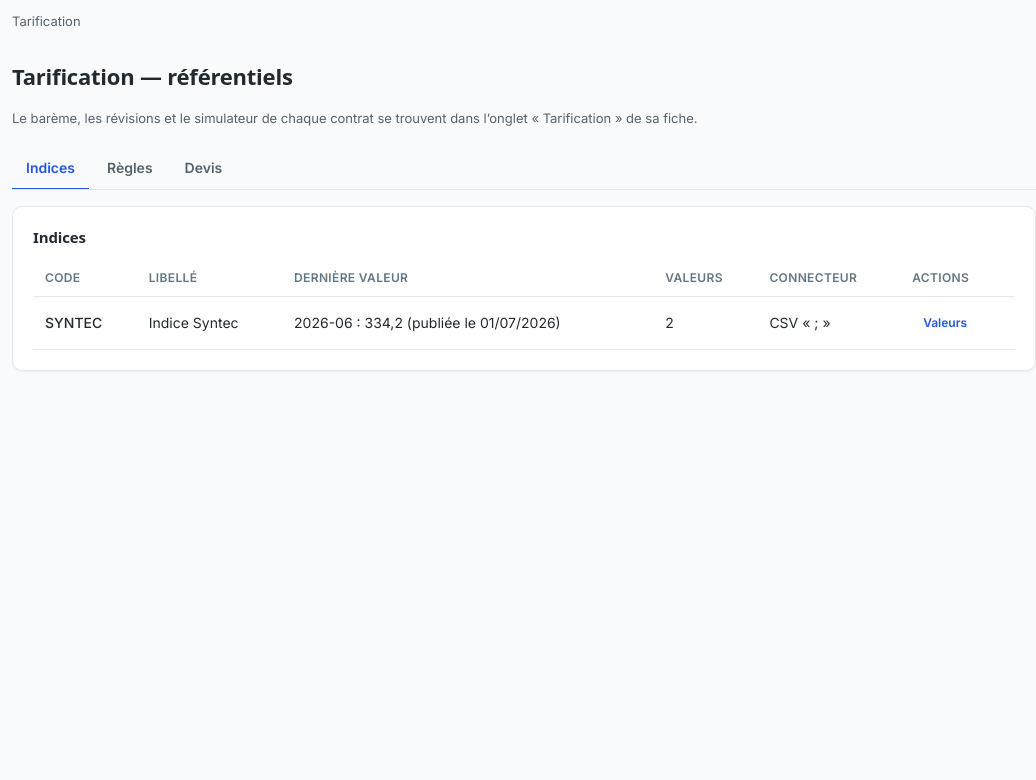
Test: devis : article, quantité, client → prix et totaux ; ambiguïté expliquée
Expected: the tab "Indices" is shown, [12, 148, 89, 190]
Click the tab "Devis" at coordinates (203, 169), box [171, 148, 236, 190]
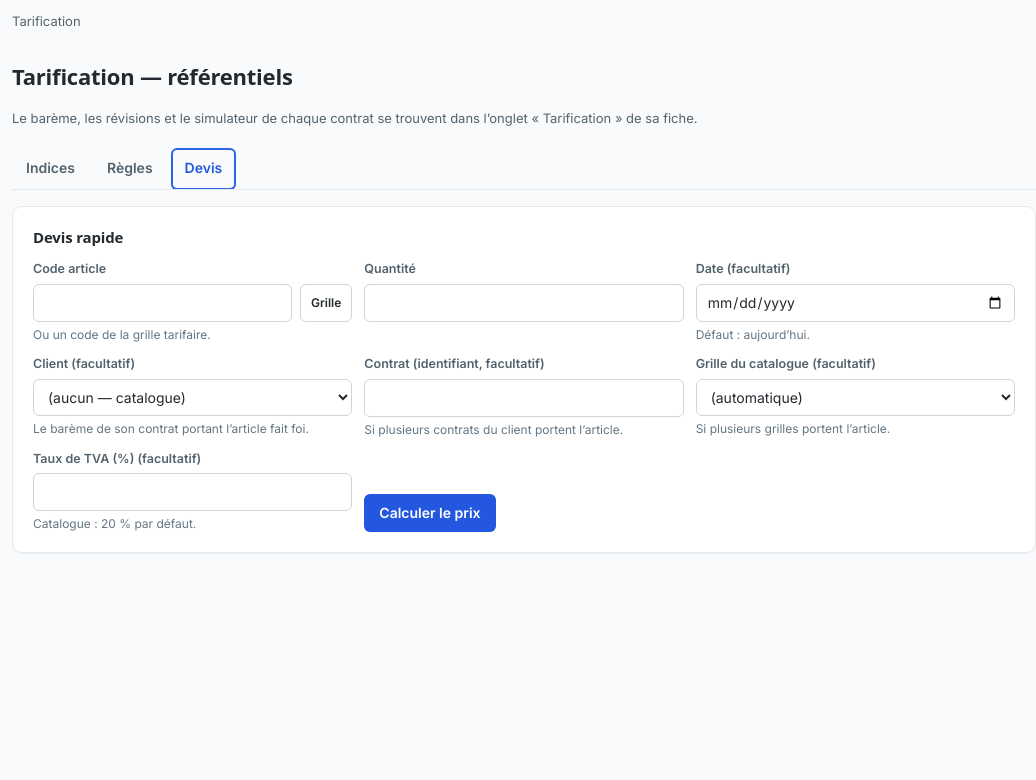
Type "POSTE" into the field labelled "Code article" at coordinates (162, 303), box [33, 284, 292, 322]
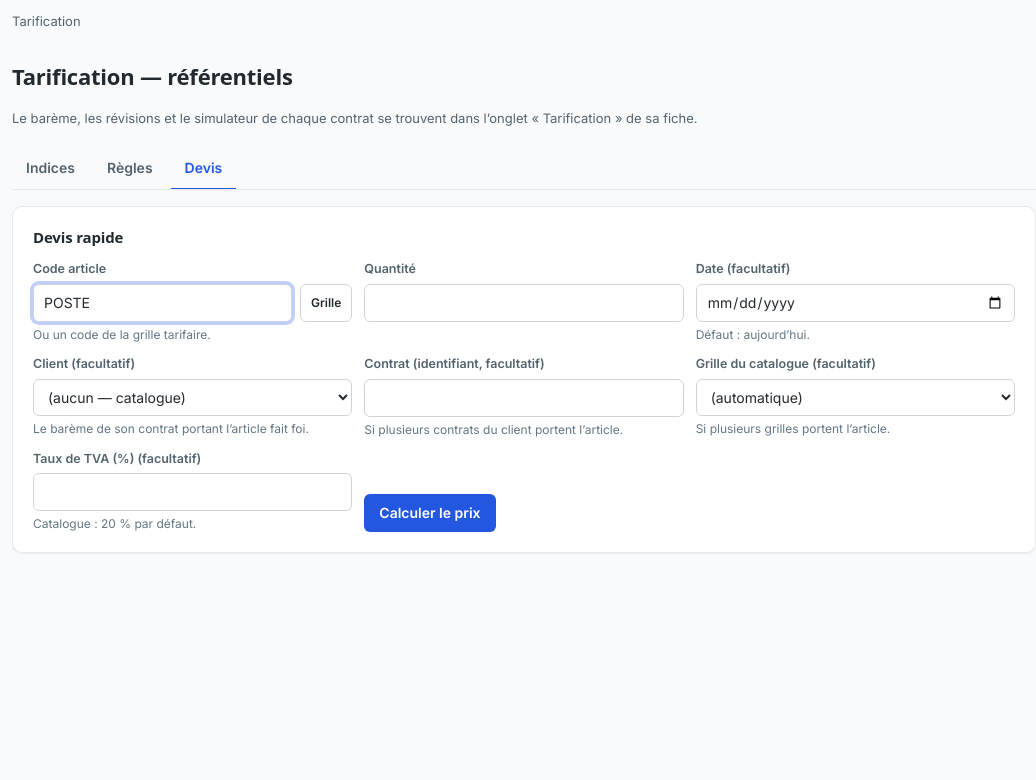
Type "25" into the field labelled "Quantité" at coordinates (524, 303), box [364, 284, 684, 322]
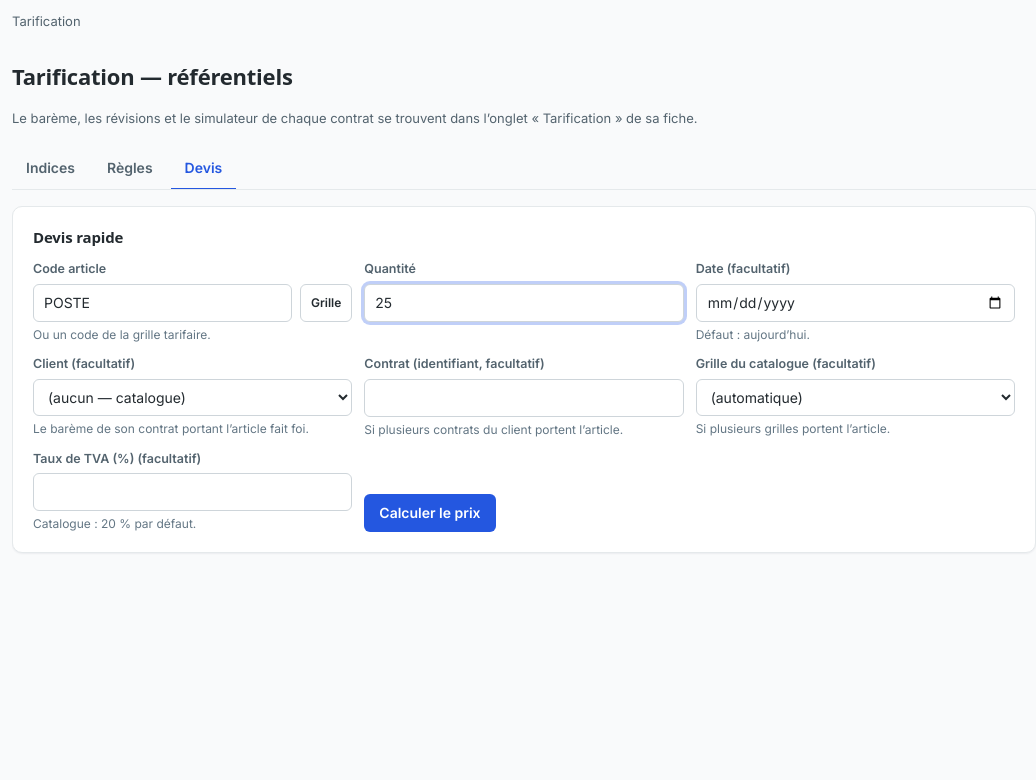
Select "Dupont SAS" in the dropdown labelled "Client (facultatif)" at coordinates (193, 397), box [33, 378, 352, 416]
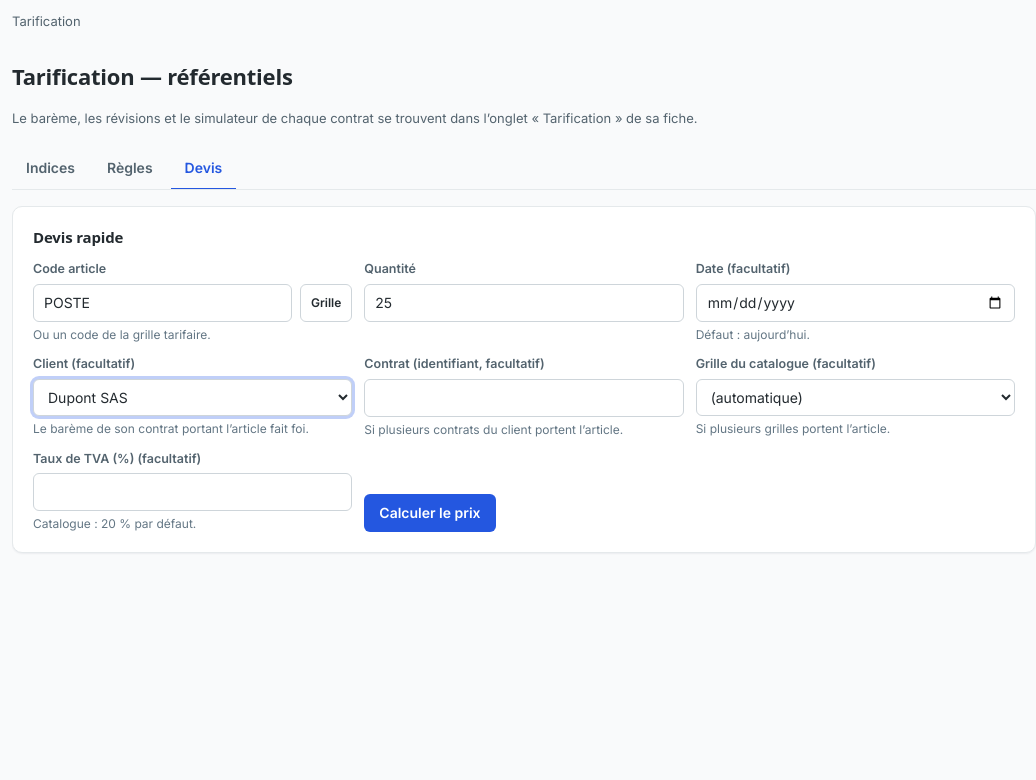
Click the button "Calculer le prix" at coordinates (430, 513), box [364, 494, 496, 532]
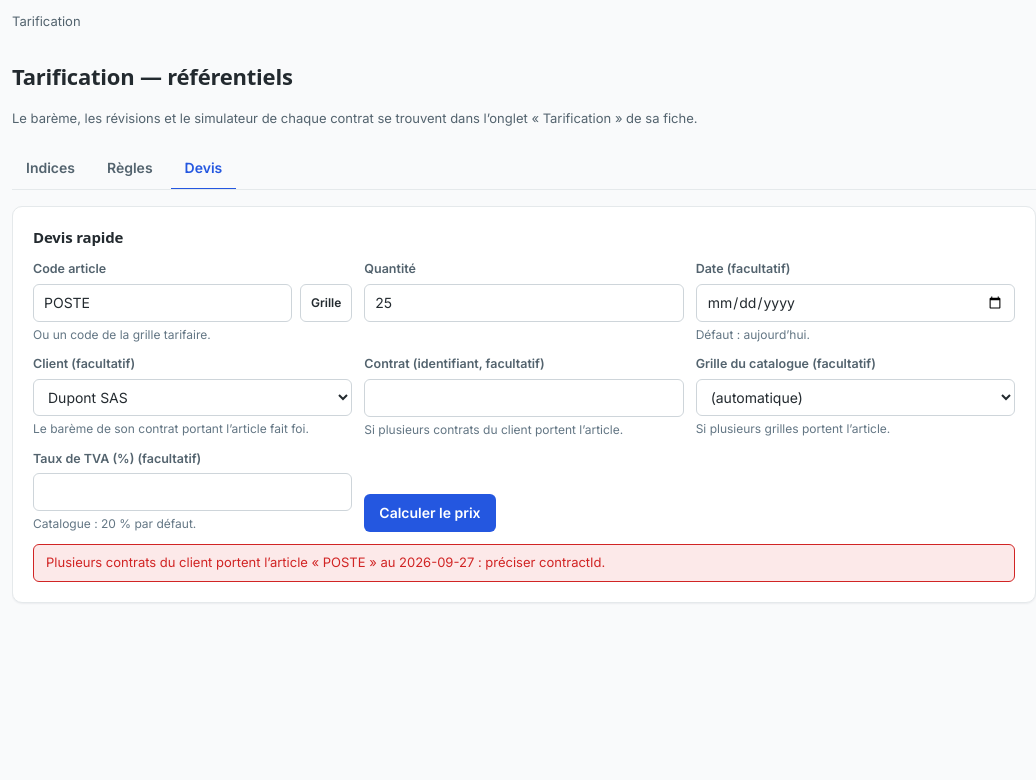
Expected: the message shows "préciser contractId", [46, 554, 605, 570]
Click the button "Calculer le prix" at coordinates (430, 513), box [364, 494, 496, 532]
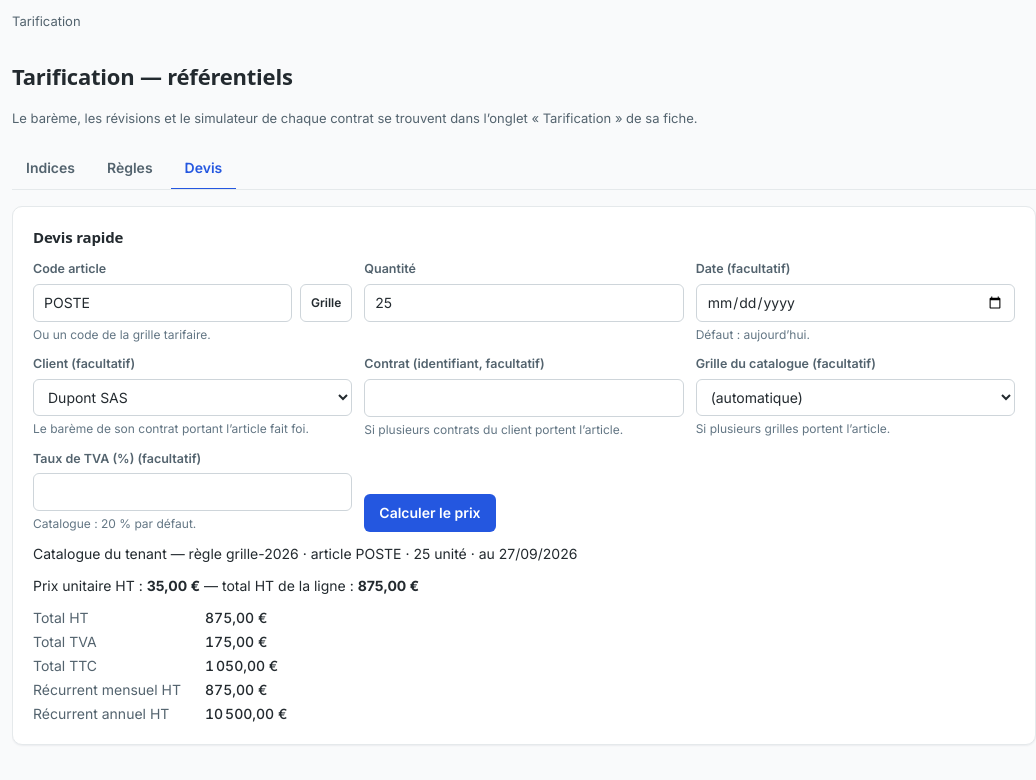
Expected: the text "Catalogue du tenant — règle grille-2026" is shown, [33, 545, 577, 562]
Expected: the text "1 050,00 €" is shown, [205, 657, 278, 674]
